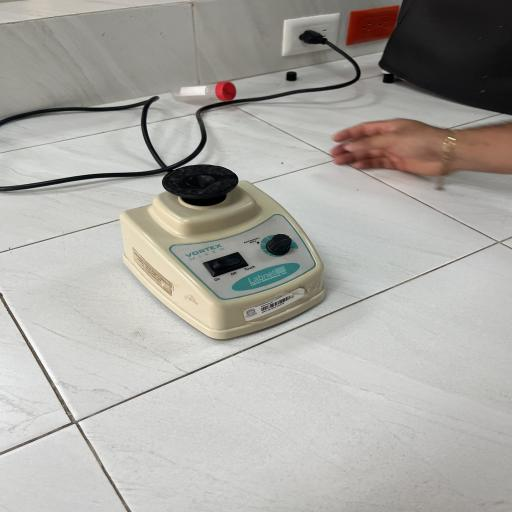Vortex_Mixer_LabNet: (84, 145, 343, 350)
